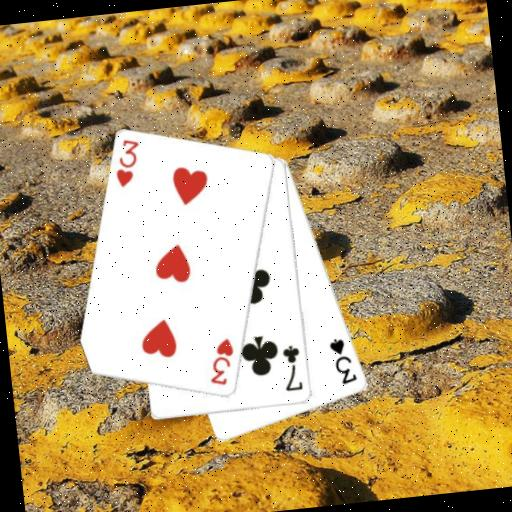3H: (109, 135, 145, 190), (203, 336, 239, 389)
3S: (326, 334, 360, 388)
7C: (279, 342, 306, 394)
